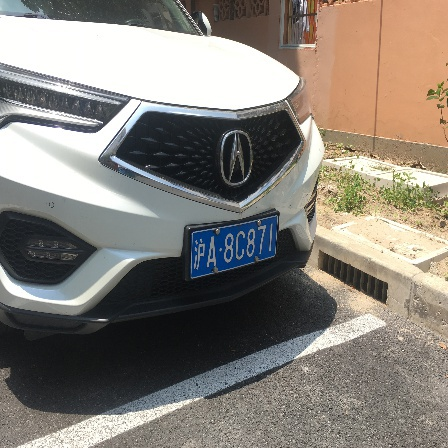plate: (188, 214, 282, 277)
